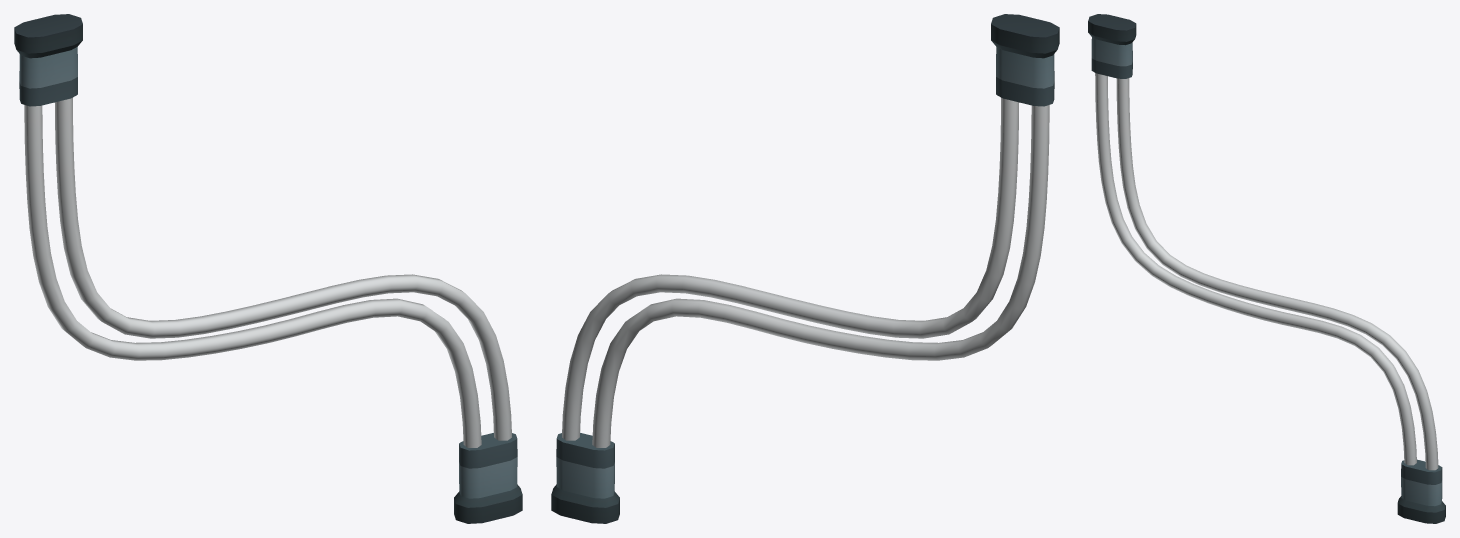
File: Cable_type_B_007.fbx
The picture shows the model from 3 angles, left to right: view 1: azimuth 30°, elevation 25°; view 2: azimuth 150°, elevation 25°; view 3: azimuth 330°, elevation 25°; orthographic projection. The views are drawn at different scales.
Visible parts, largest first — view 1: Cable_type_B_007; view 2: Cable_type_B_007; view 3: Cable_type_B_007.
Part boxes in pixels (x1=…): Cable_type_B_007: x1=14, y1=14, x2=522, y2=523; Cable_type_B_007: x1=551, y1=14, x2=1059, y2=523; Cable_type_B_007: x1=1088, y1=14, x2=1445, y2=523.
Bounding box in the file's own units: 116 × 7.83 × 131.
